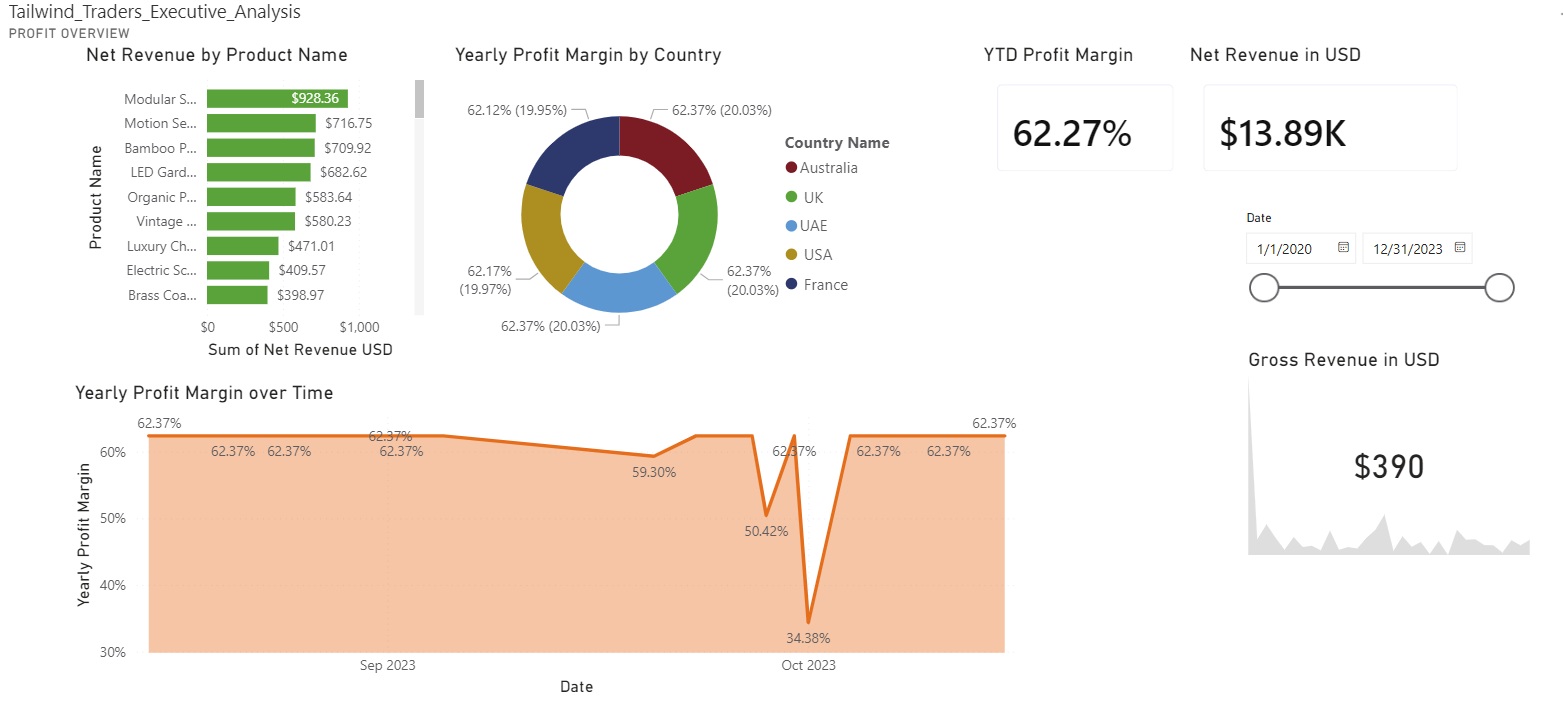

This screenshot's page, from the dashboard's own definition file:
{"tool":"powerbi","page":{"name":"Profit Overview","canvas":[1280,720],"ordinal":1},"visuals":[{"type":"clusteredBarChart","title":"Net Revenue by Product Name","fields":{"Category":["Sales in USD.Product Name"],"Y":["Sum(Sales in USD.Net Revenue USD)"]},"box":[9.4,0,304.9,280.6],"z":0},{"type":"donutChart","title":"Yearly Profit Margin by Country","fields":{"Category":["Sales in USD.Country Name"],"Y":["Sales in USD.Yearly Profit Margin"]},"box":[331.9,0,406.1,280.6],"z":1000},{"type":"areaChart","title":"Yearly Profit Margin over Time","fields":{"Category":["CalendarTable.Date"],"Y":["Sales in USD.Yearly Profit Margin"]},"box":[0,294.1,845.9,280.6],"z":2000},{"type":"cardVisual","title":"YTD Profit Margin","fields":{"Data":["Sales in USD.YTD Profit Margin"]},"box":[793.3,0,188.9,129.5],"z":3000},{"type":"cardVisual","title":"Net Revenue in USD","fields":{"Data":["Sum(Sales in USD.Net Revenue USD)"]},"box":[972.7,0,256.3,129.5],"z":4000},{"type":"kpi","title":"Gross Revenue in USD","fields":{"Indicator":["Sum(Sales in USD.Gross Revenue USD)"],"TrendLine":["CalendarTable.Date"]},"box":[1024.7,266.6,255.6,185.9],"z":5000},{"type":"slicer","fields":{"Values":["CalendarTable.Date"]},"box":[1014.5,140.3,255,124.1],"z":6000}]}

Visuals, with their boxes on the page's 1280x720 design canvas (x1, y1, x2, y2). These are canvas units, not pixel positions in the 1563x706 screenshot, which may show the page scaled, cropped or inside an application window:
"Net Revenue by Product Name" clusteredBarChart: bbox=[9, 0, 314, 281]
"Yearly Profit Margin by Country" donutChart: bbox=[332, 0, 738, 281]
"Yearly Profit Margin over Time" areaChart: bbox=[0, 294, 846, 575]
"YTD Profit Margin" cardVisual: bbox=[793, 0, 982, 130]
"Net Revenue in USD" cardVisual: bbox=[973, 0, 1229, 130]
"Gross Revenue in USD" kpi: bbox=[1025, 267, 1280, 452]
slicer - CalendarTable.Date: bbox=[1014, 140, 1270, 264]
